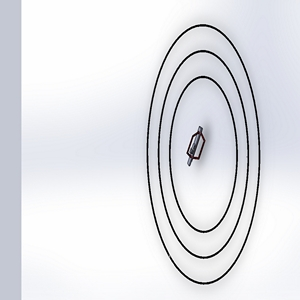circle: (144, 18, 264, 287)
submarine: (179, 123, 216, 180)
